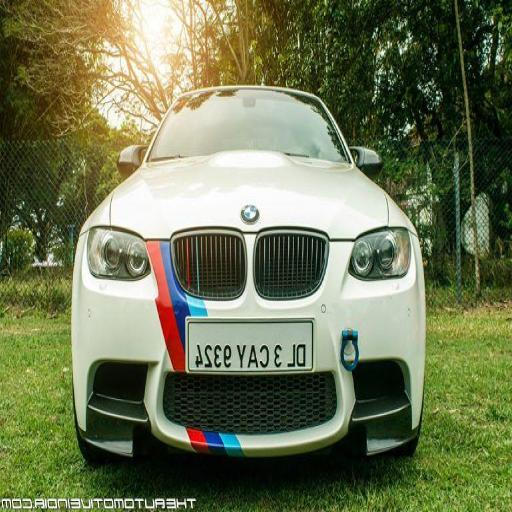License: (190, 302, 311, 380)
